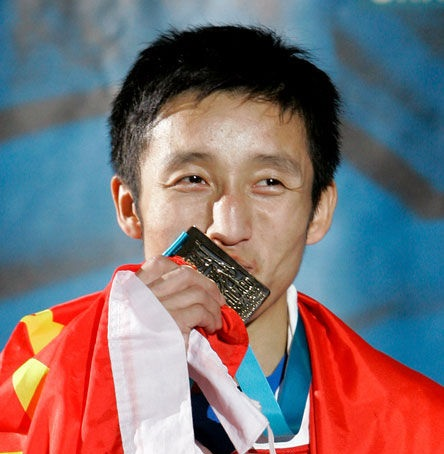face: (143, 90, 309, 315)
